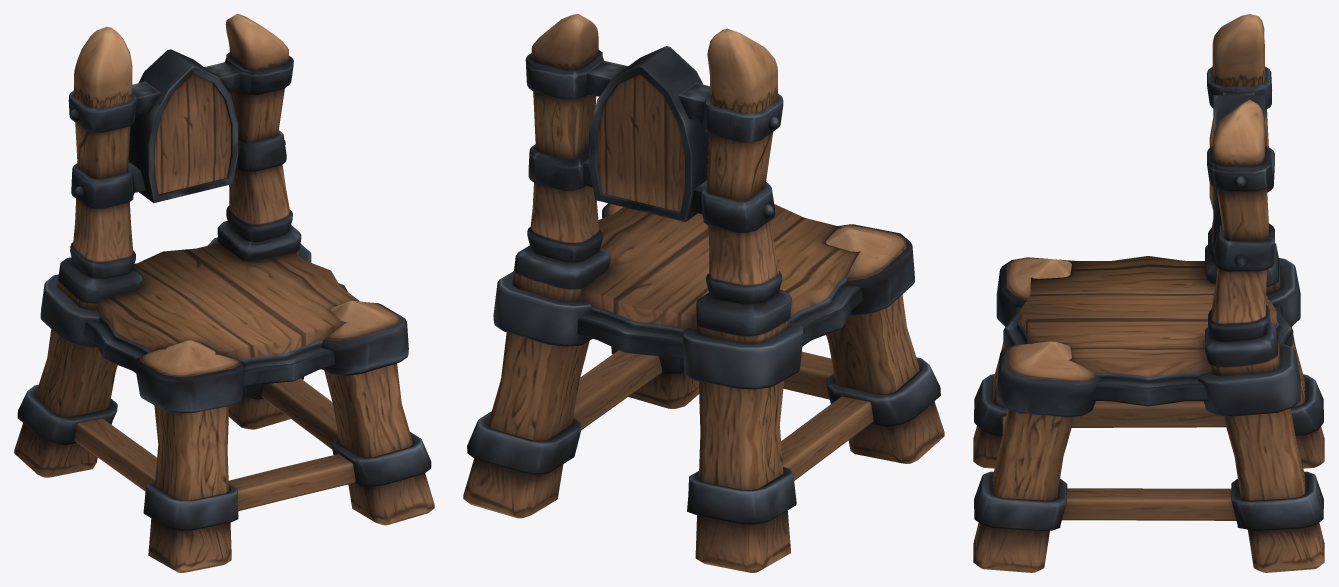
The model's file is Silla.fbx.
3 renders of one model, left to right at view 1: azimuth 30°, elevation 25°; view 2: azimuth 150°, elevation 25°; view 3: azimuth 270°, elevation 25°, orthographic. The views are drawn at different scales.
Parts seen in each view (by area): view 1: woodenChair_low.001; view 2: woodenChair_low.001; view 3: woodenChair_low.001.
Part boxes in pixels (x1=…): woodenChair_low.001: x1=14, y1=14, x2=434, y2=572; woodenChair_low.001: x1=463, y1=14, x2=944, y2=572; woodenChair_low.001: x1=973, y1=14, x2=1324, y2=572.
Size of the model in its own units: 259 by 415 by 286.
4 materials, 4 textured.
